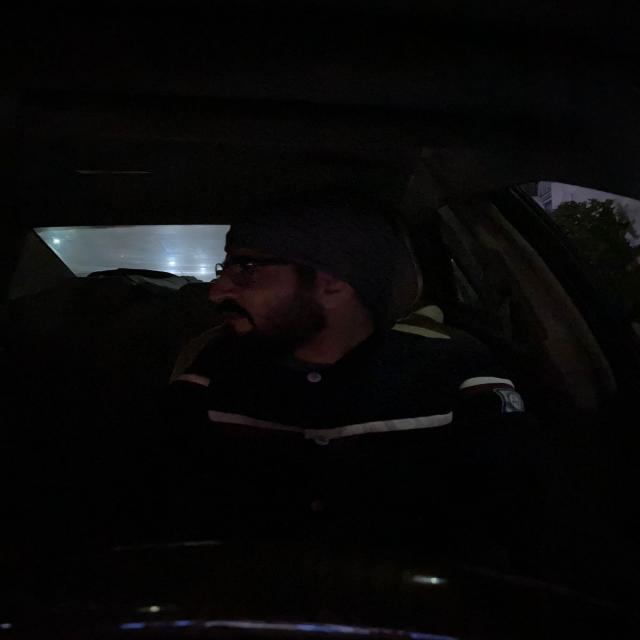LeftRight: (197, 188, 416, 365)
